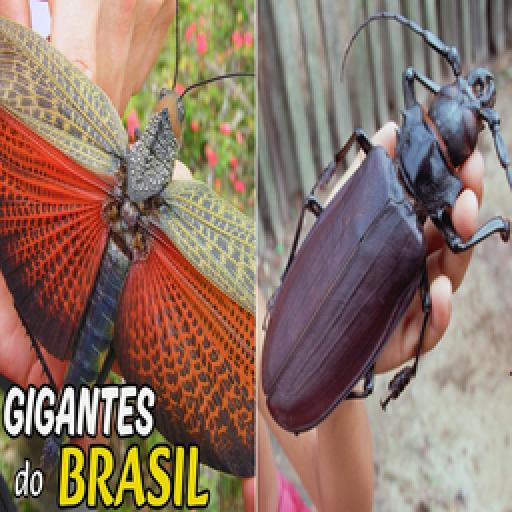insects: (2, 35, 257, 477), (260, 13, 512, 430)
